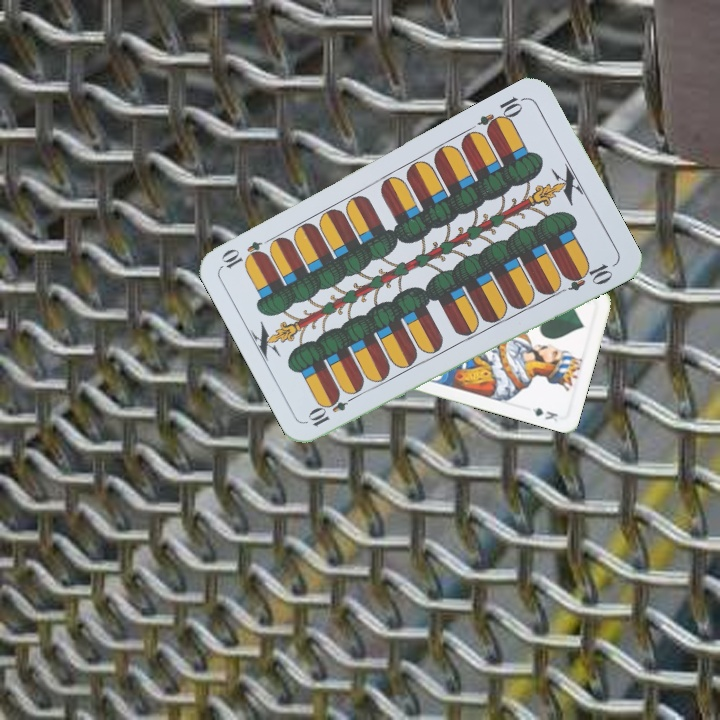E10: (474, 92, 529, 136), (304, 389, 360, 430)
